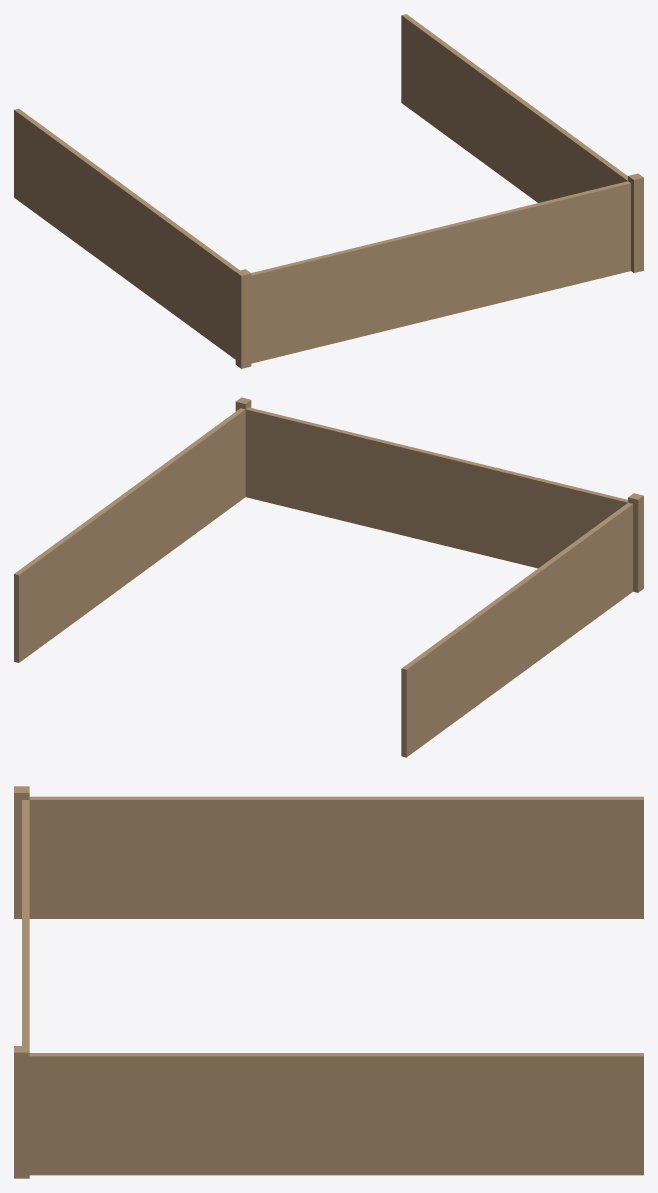
File: SM_Fence_Large.fbx
The picture shows the model from 3 angles, top to bottom: view 1: azimuth 30°, elevation 25°; view 2: azimuth 150°, elevation 25°; view 3: azimuth 270°, elevation 25°; orthographic projection. The views are drawn at different scales.
Visible parts, largest first — view 1: SM_Fence_Large; view 2: SM_Fence_Large; view 3: SM_Fence_Large.
Part boxes in pixels (bbox=[...]): SM_Fence_Large: bbox=[14, 14, 643, 368]; SM_Fence_Large: bbox=[14, 397, 643, 757]; SM_Fence_Large: bbox=[14, 786, 643, 1178].
Bounding box in the file's own units: 864 × 191 × 864.
